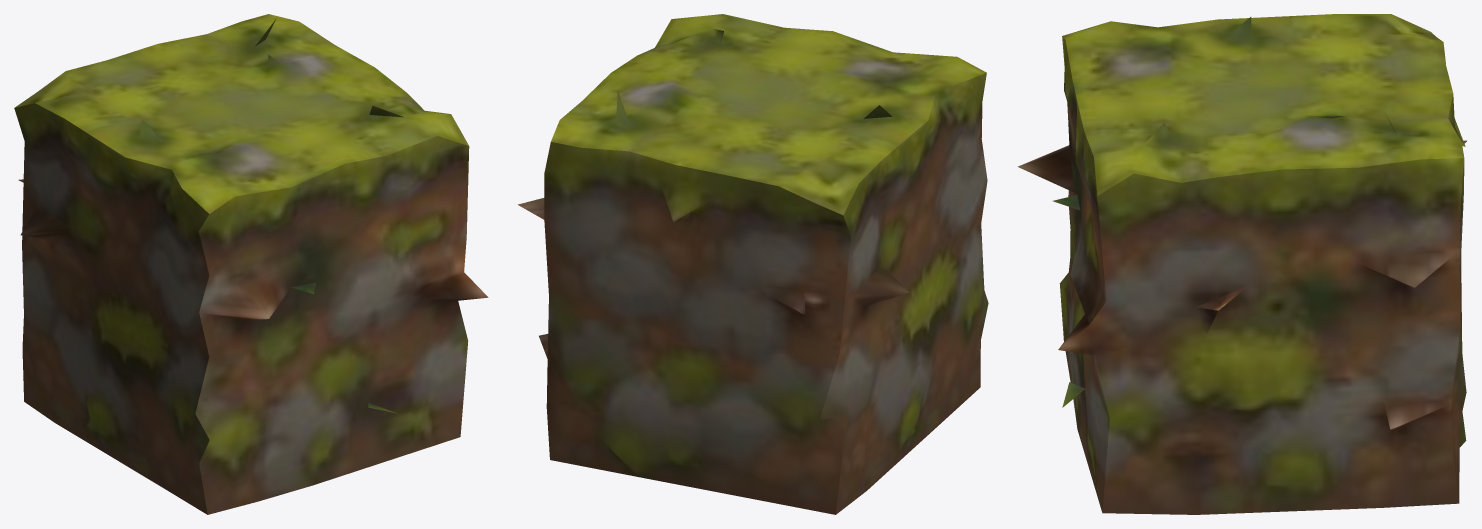
Rendered from b_racines_mur_3.glb.
The picture shows the model from 3 angles, left to right: view 1: azimuth 30°, elevation 25°; view 2: azimuth 150°, elevation 25°; view 3: azimuth 270°, elevation 25°; orthographic projection. The views are drawn at different scales.
Visible parts, largest first — view 1: geometry_0; view 2: geometry_0; view 3: geometry_0.
Boxes of the visible parts, bbox=[...] form: geometry_0: bbox=[14, 14, 488, 514]; geometry_0: bbox=[518, 14, 988, 514]; geometry_0: bbox=[1017, 14, 1466, 514].
Bounding box in the file's own units: 1 × 0.9249 × 1.
Materials: 1 (1 with a texture image).
